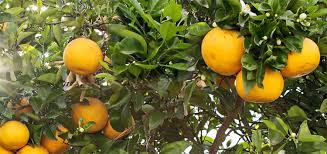orange: (199, 28, 246, 77), (232, 66, 287, 106), (280, 36, 325, 80), (61, 31, 104, 76), (70, 98, 107, 134), (1, 116, 32, 149)
